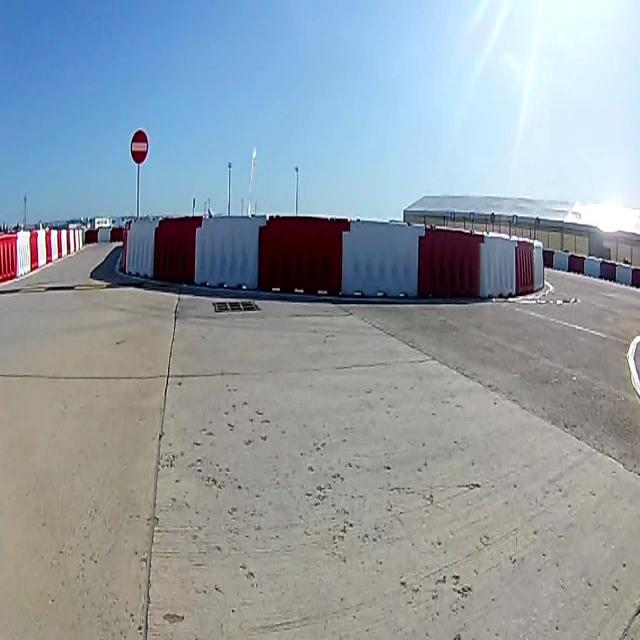girisyok: (130, 129, 149, 163)
